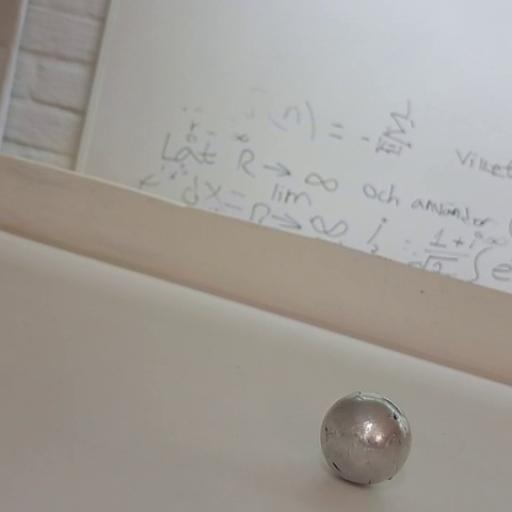alive: (318, 388, 414, 486)
